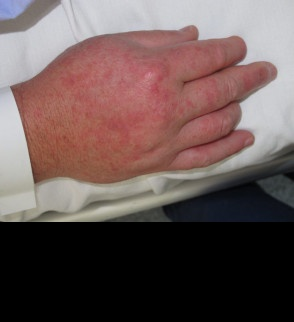SJS-TEN: (33, 27, 270, 191)
